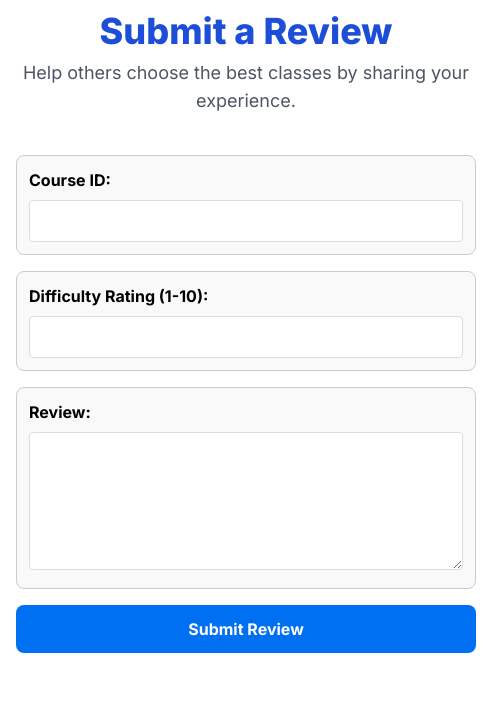
Test: ReviewForm › shows error if fields are empty
This screenshot has width=493, height=712.
Step 1. Click the button "Submit Review" → (246, 629), box [16,605,476,653]
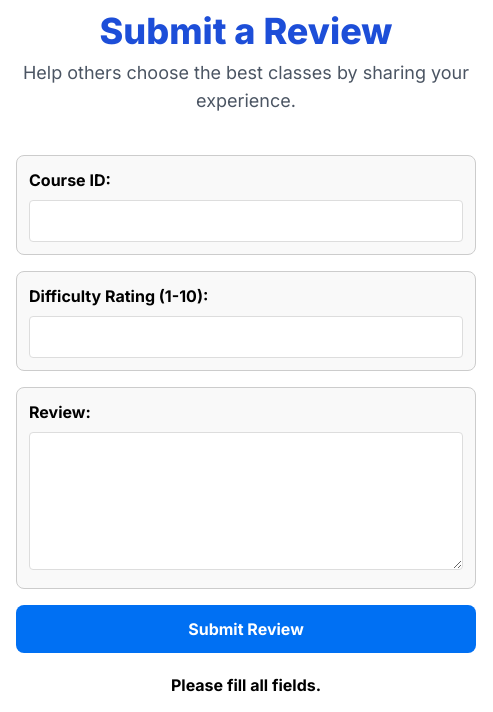
Expected: the text "Please fill all fields." is shown, [171,675,321,695]
